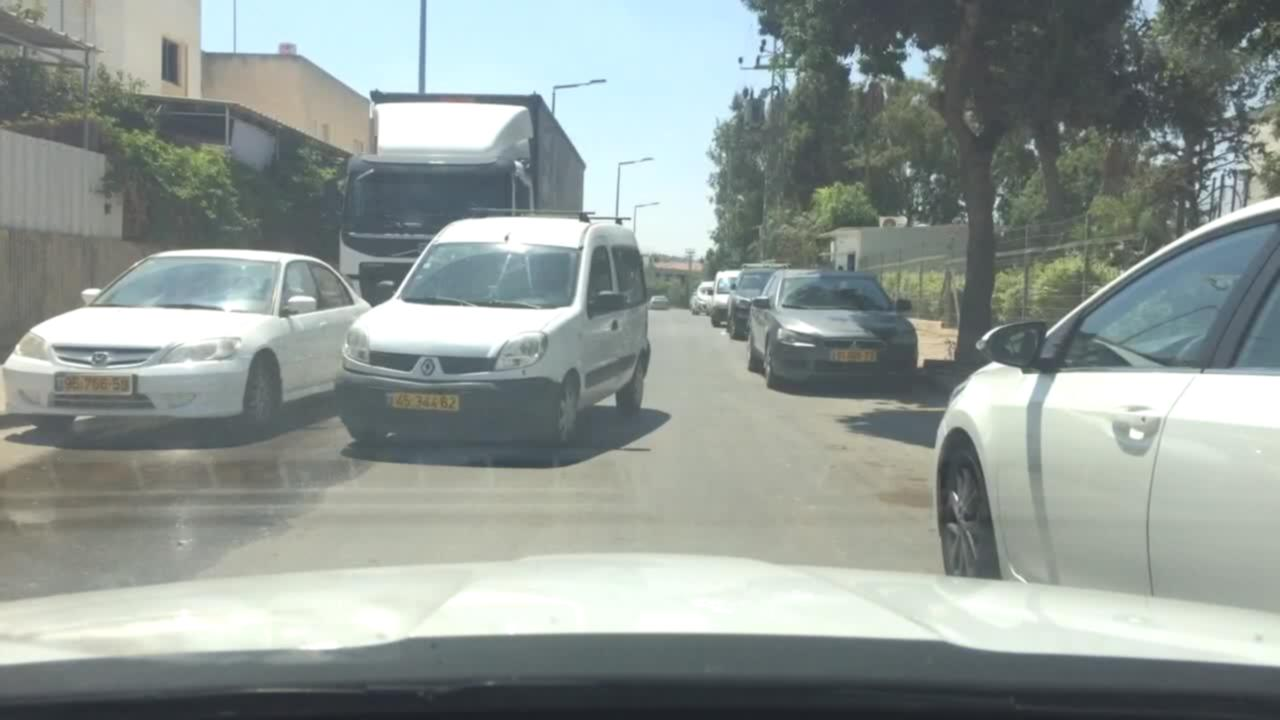Honda: (86, 346, 113, 373)
Renault: (417, 354, 440, 378)
